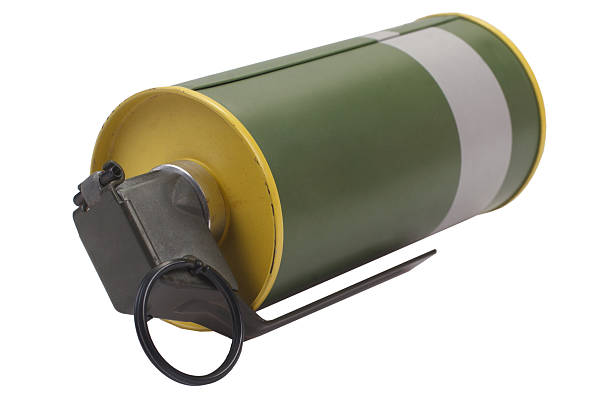e1: (69, 9, 547, 384)
